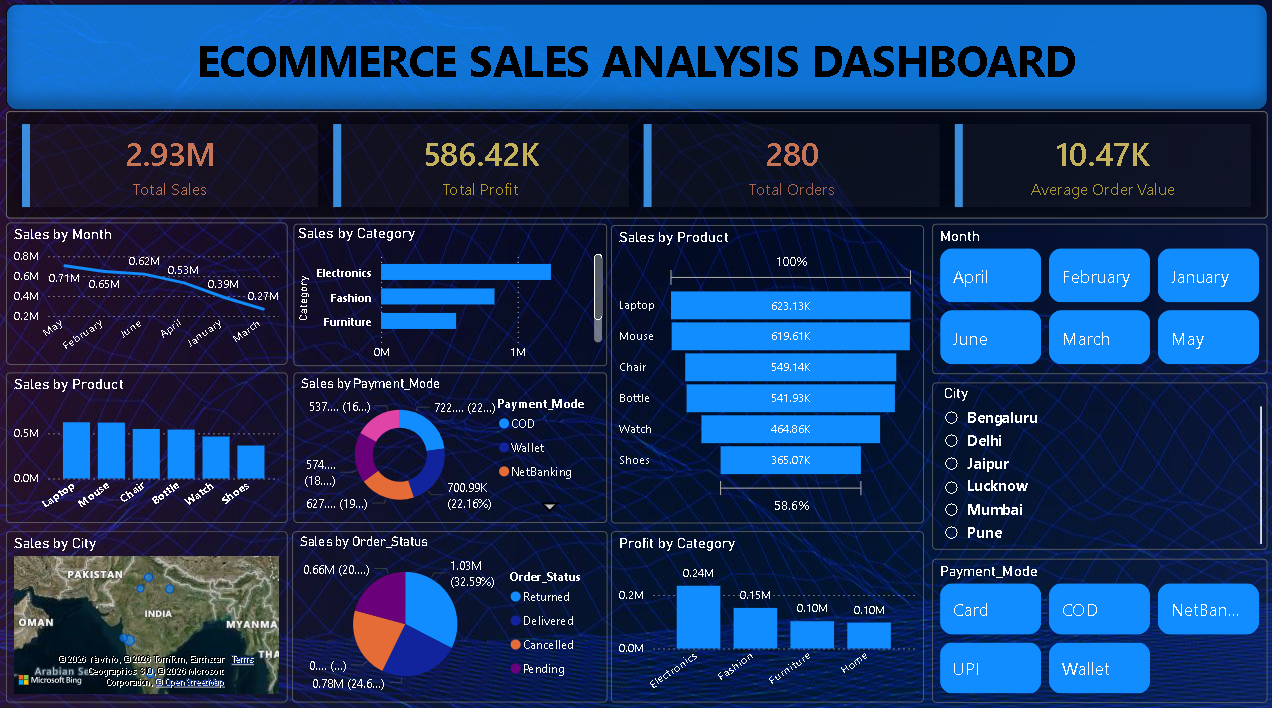

The page's visual inventory and layout, read from the dashboard file:
{"tool":"powerbi","page":{"name":"Page 1","canvas":[1280,720],"ordinal":0},"visuals":[{"type":"cardVisual","fields":{"Data":["Dax Measure.Total Sales","Dax Measure.Total Profit","Dax Measure.Total Orders","Dax Measure.Average Order Value"]},"box":[10,92.5,1261.2,117.5],"z":0},{"type":"textbox","box":[10,8.8,1261.2,80],"z":1000},{"type":"lineChart","title":"Sales by Month","fields":{"Category":["ecommerce orders.Month"],"Y":["Sum(ecommerce orders.Sales)"]},"box":[10,217.5,281.2,142.5],"z":2000},{"type":"barChart","title":"Sales by Category","fields":{"Category":["ecommerce orders.Category"],"Y":["Sum(ecommerce orders.Sales)"]},"box":[300,217.5,313.8,143.8],"z":3000},{"type":"columnChart","title":"Sales by Product","fields":{"Category":["ecommerce orders.Product"],"Y":["Sum(ecommerce orders.Sales)"]},"box":[10,367.5,281.2,160],"z":4000},{"type":"map","title":"Sales by City","fields":{"Category":["ecommerce orders.City"],"Size":["Sum(ecommerce orders.Sales)"]},"box":[10,532.5,281.2,175],"z":5000},{"type":"donutChart","title":"Sales by Payment_Mode","fields":{"Category":["ecommerce orders.Payment_Mode"],"Y":["Sum(ecommerce orders.Sales)"]},"box":[298.8,367.5,315,160],"z":6000},{"type":"pieChart","title":"Sales by Order_Status","fields":{"Category":["ecommerce orders.Order_Status"],"Y":["Sum(ecommerce orders.Sales)"]},"box":[298.8,532.5,315,175],"z":7000},{"type":"funnel","title":"Sales by Product","fields":{"Category":["ecommerce orders.Product"],"Y":["Sum(ecommerce orders.Sales)"]},"box":[620.8,217.5,306.7,310],"z":8000},{"type":"clusteredColumnChart","title":"Profit by Category","fields":{"Category":["ecommerce orders.Category"],"Y":["Sum(ecommerce orders.Profit)"]},"box":[620.6,532.5,306.9,175],"z":9000},{"type":"advancedSlicerVisual","fields":{"Values":["ecommerce orders.Month"]},"box":[936,218,335,155],"z":10000},{"type":"listSlicer","fields":{"Values":["ecommerce orders.City"]},"box":[936.2,378.5,334.6,175.4],"z":11000},{"type":"advancedSlicerVisual","fields":{"Values":["ecommerce orders.Payment_Mode"]},"box":[936.2,559.2,335.4,148.5],"z":12000}]}

Visuals, with their boxes in screenshot pixels (x1, y1, x2, y2), scaled from the page's 1280x720 canvas onto the 1272x708 screenshot:
cardVisual - Dax Measure.Total Sales x Dax Measure.Total Profit: (10,91,1263,206)
textbox: (10,9,1263,87)
"Sales by Month" lineChart: (10,214,289,354)
"Sales by Category" barChart: (298,214,610,355)
"Sales by Product" columnChart: (10,361,289,519)
"Sales by City" map: (10,524,289,696)
"Sales by Payment_Mode" donutChart: (297,361,610,519)
"Sales by Order_Status" pieChart: (297,524,610,696)
"Sales by Product" funnel: (617,214,922,519)
"Profit by Category" clusteredColumnChart: (617,524,922,696)
advancedSlicerVisual - ecommerce orders.Month: (930,214,1263,367)
listSlicer - ecommerce orders.City: (930,372,1263,545)
advancedSlicerVisual - ecommerce orders.Payment_Mode: (930,550,1264,696)
